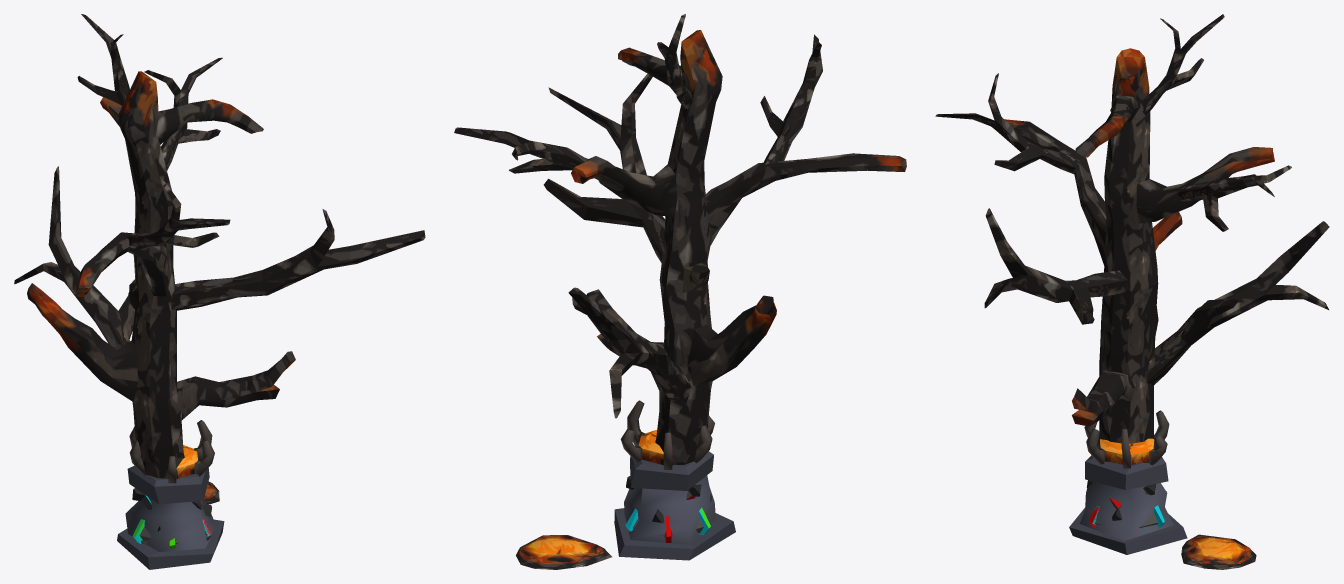
File: FireLandAssetsVII.fbx
3 renders of one model, left to right at view 1: azimuth 30°, elevation 25°; view 2: azimuth 150°, elevation 25°; view 3: azimuth 270°, elevation 25°, orthographic. The views are drawn at different scales.
Visible parts, largest first — view 1: Burned_TreeMesh, Pillar, Wood_Brazier; view 2: Burned_TreeMesh, Pillar, BurningRubbleMesh, Wood_Brazier; view 3: Burned_TreeMesh, Pillar, Wood_Brazier, BurningRubbleMesh.
Part boxes in pixels (x1,y1,x2,y2): Burned_TreeMesh: [14, 14, 425, 478]; Pillar: [117, 466, 224, 569]; Wood_Brazier: [129, 420, 214, 544]; Burned_TreeMesh: [454, 14, 906, 464]; Pillar: [614, 451, 735, 560]; BurningRubbleMesh: [516, 535, 611, 569]; Wood_Brazier: [620, 400, 714, 534]; Burned_TreeMesh: [935, 14, 1329, 448]; Pillar: [1069, 455, 1187, 554]; Wood_Brazier: [1084, 410, 1169, 468]; BurningRubbleMesh: [1181, 534, 1256, 569].
Size of the model in its own units: 11.32 by 16.11 by 11.56.
Materials: 4 (1 with a texture image).
